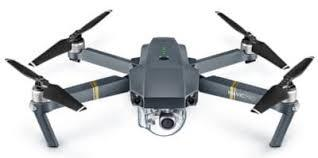drone: (3, 8, 316, 149)
